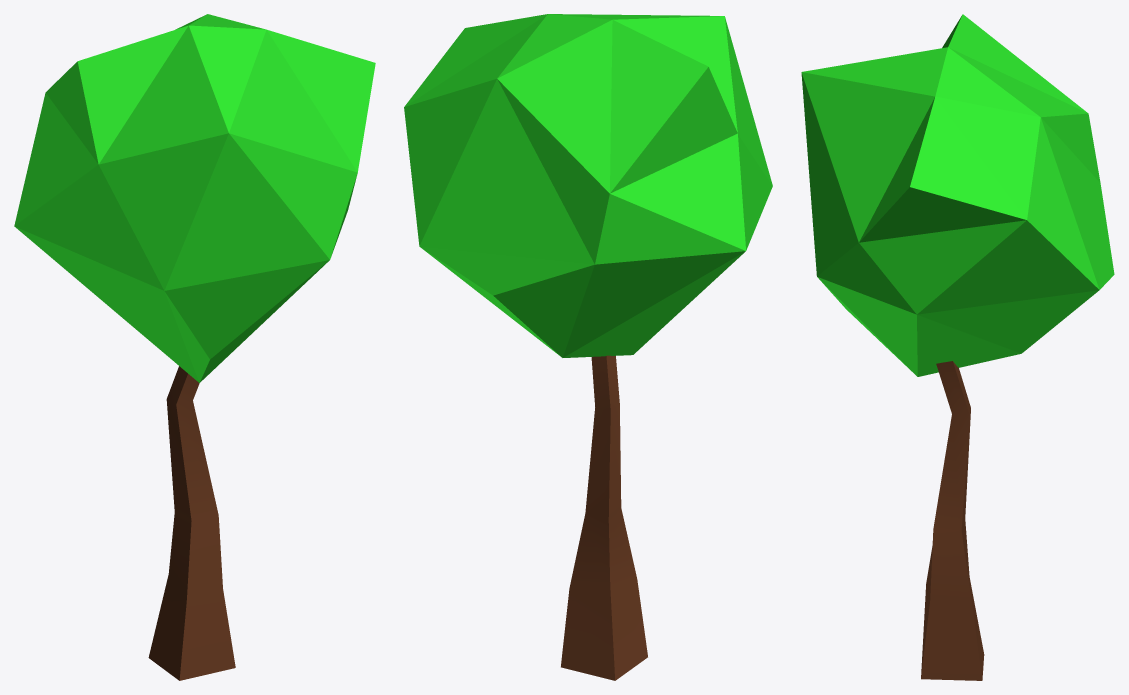
The model's file is tree2.fbx.
3 views of the same model, side by side, from view 1: azimuth 30°, elevation 25°; view 2: azimuth 150°, elevation 25°; view 3: azimuth 270°, elevation 25° (orthographic). The views are drawn at different scales.
Visible parts, largest first — view 1: tree2; view 2: tree2; view 3: tree2.
Boxes of the visible parts, x1,y1,x2,y2 form: tree2: [14, 14, 375, 680]; tree2: [404, 14, 772, 680]; tree2: [801, 14, 1114, 680].
Size of the model in its own units: 1.53 by 2.93 by 1.34.
